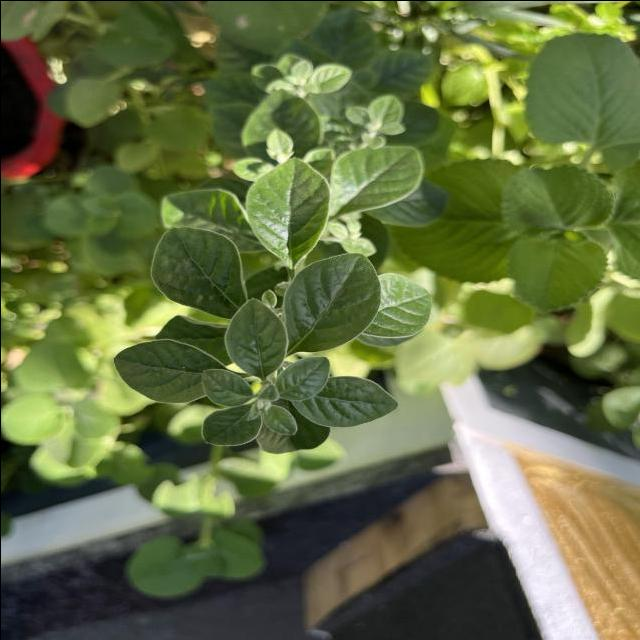Aerva lanata: (241, 153, 333, 270), (280, 250, 382, 354), (147, 224, 249, 320), (110, 336, 232, 404), (288, 373, 400, 429), (222, 294, 290, 380), (360, 270, 433, 340), (199, 400, 264, 448), (260, 403, 298, 437)
